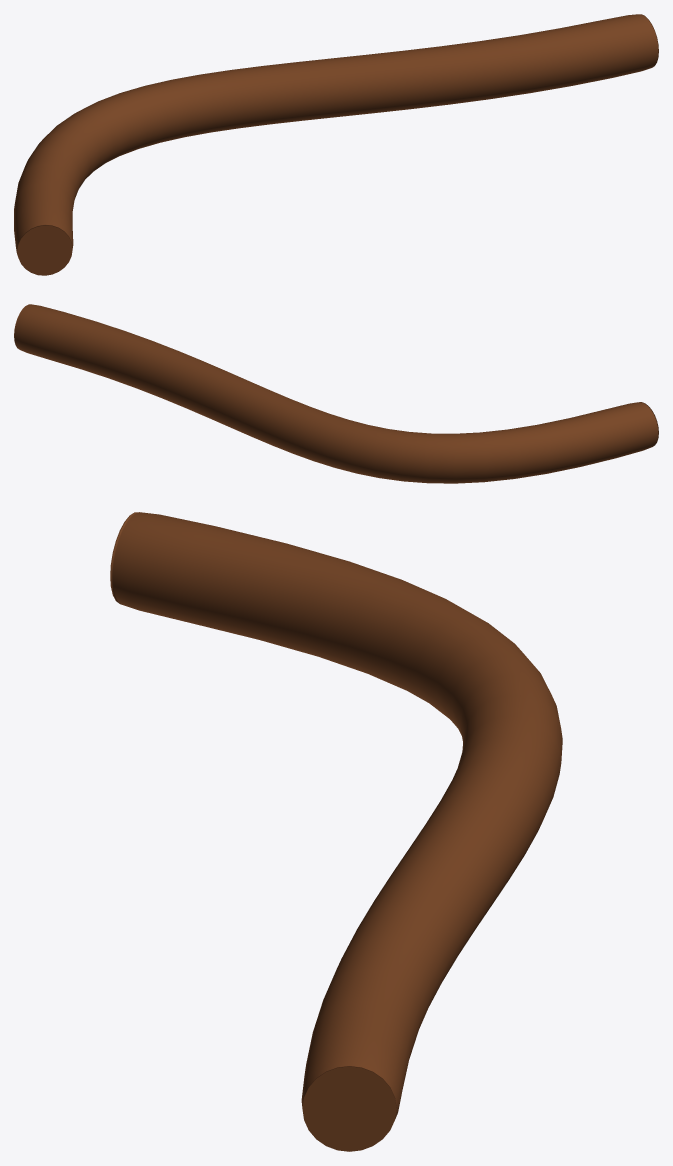
The model's file is Handle.fbx.
3 views of the same model, one above another, from view 1: azimuth 30°, elevation 25°; view 2: azimuth 150°, elevation 25°; view 3: azimuth 270°, elevation 25° (orthographic). The views are drawn at different scales.
Parts seen in each view (by area): view 1: BezierCurve; view 2: BezierCurve; view 3: BezierCurve.
Boxes of the visible parts, x1=… form: BezierCurve: x1=14, y1=14, x2=658, y2=275; BezierCurve: x1=14, y1=304, x2=658, y2=483; BezierCurve: x1=110, y1=512, x2=562, y2=1151.
Size of the model in its own units: 205 by 15.29 by 68.9.
